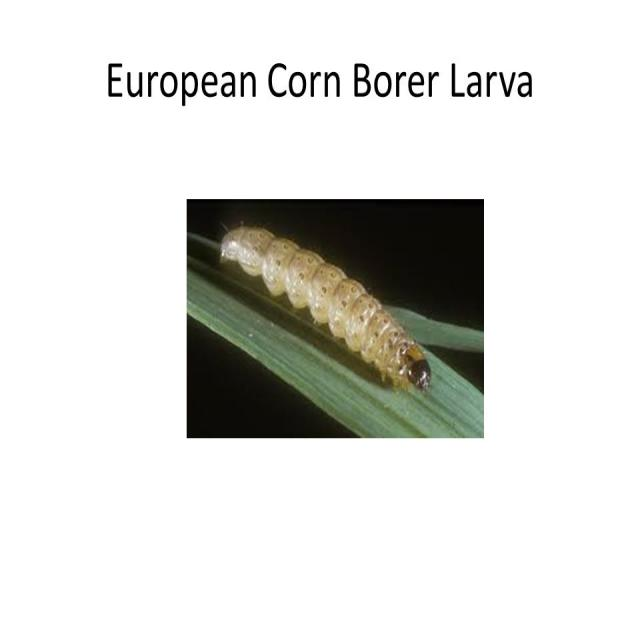cornborer-Larva-: (214, 221, 442, 395)
